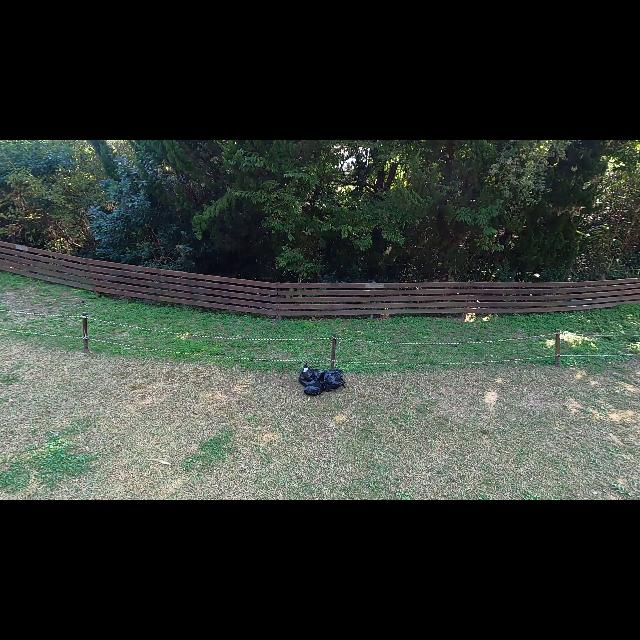trash: (324, 368, 346, 392), (299, 369, 325, 386), (304, 381, 324, 395), (300, 362, 314, 380)
